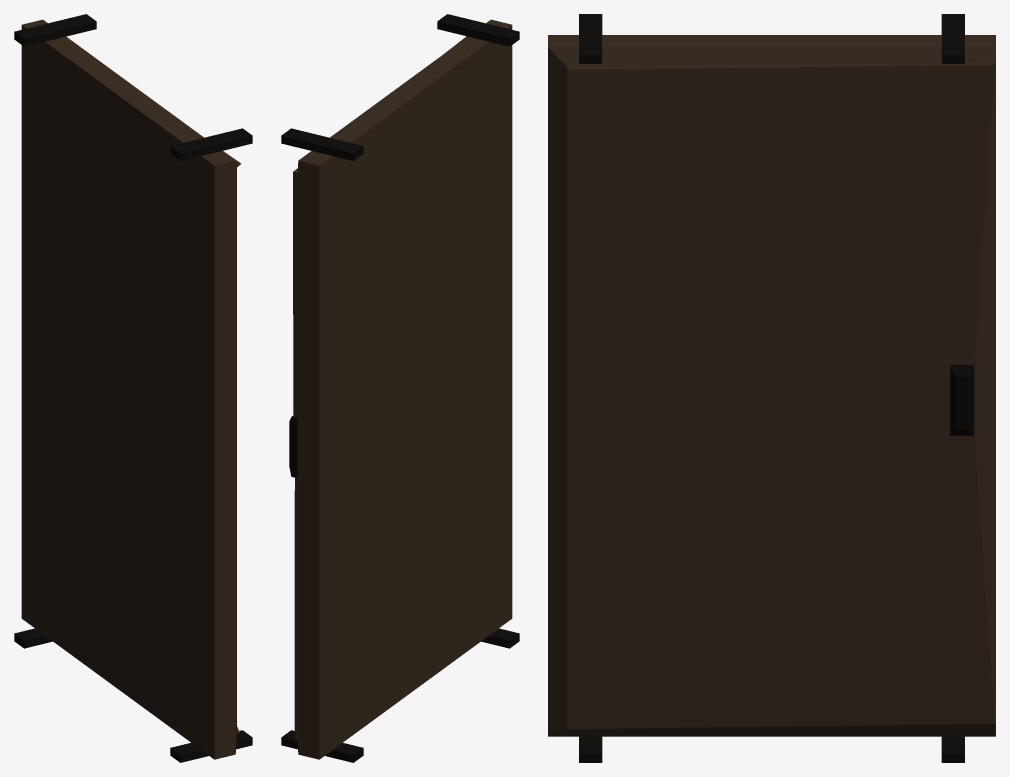
File: porta.obj
The picture shows the model from 3 angles, left to right: view 1: azimuth 30°, elevation 25°; view 2: azimuth 150°, elevation 25°; view 3: azimuth 270°, elevation 25°; orthographic projection. The views are drawn at different scales.
Parts seen in each view (by area): view 1: Cube, Cube.001; view 2: Cube, Cube.001; view 3: Cube, Cube.001.
Part boxes in pixels (x1,y1,x2,y2): Cube: [21, 19, 241, 759]; Cube.001: [14, 14, 252, 762]; Cube: [289, 19, 512, 759]; Cube.001: [281, 14, 519, 762]; Cube: [548, 35, 995, 736]; Cube.001: [579, 14, 964, 762].
Size of the model in its own units: 0.5363 by 4.32 by 2.48.
